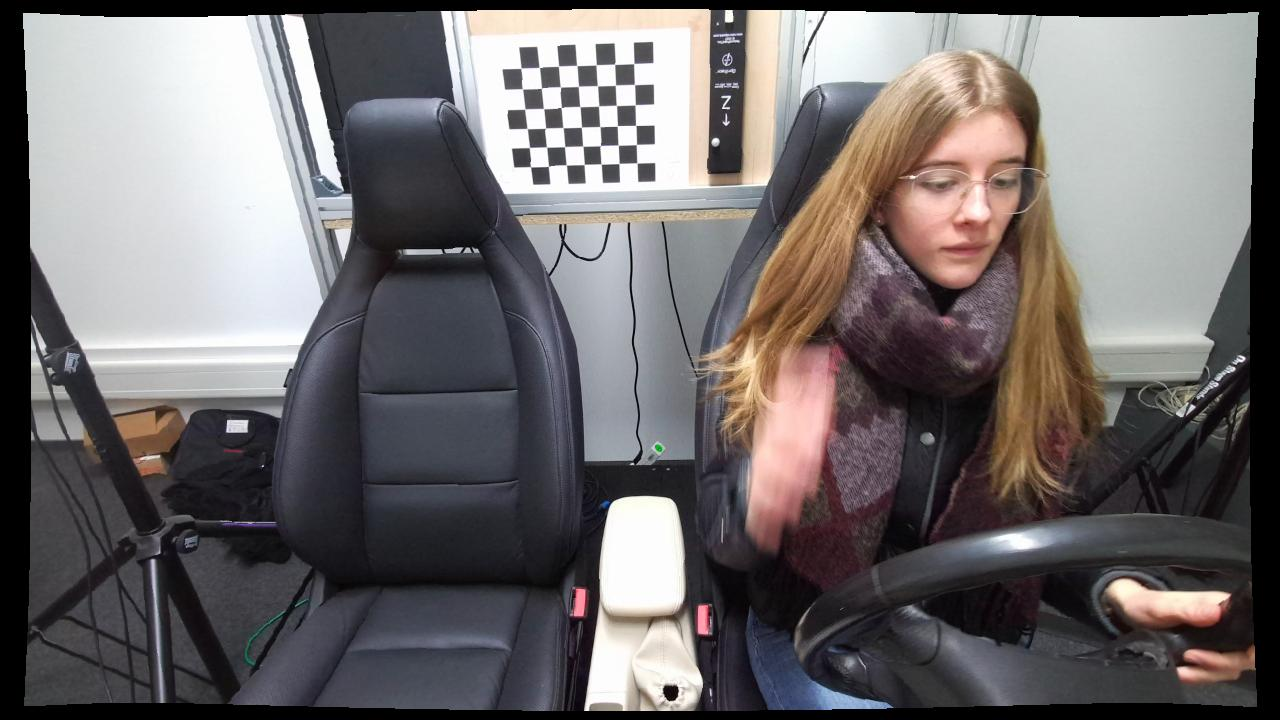Distracted: (694, 48, 1130, 709)
